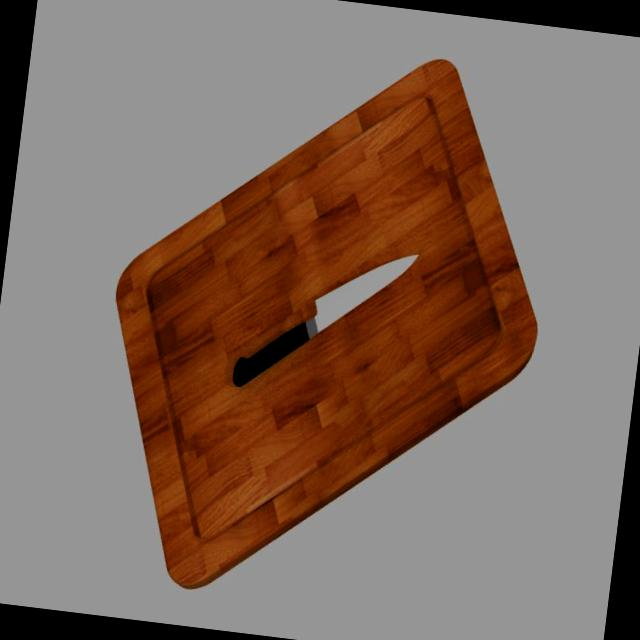knife: (232, 314, 312, 395)
